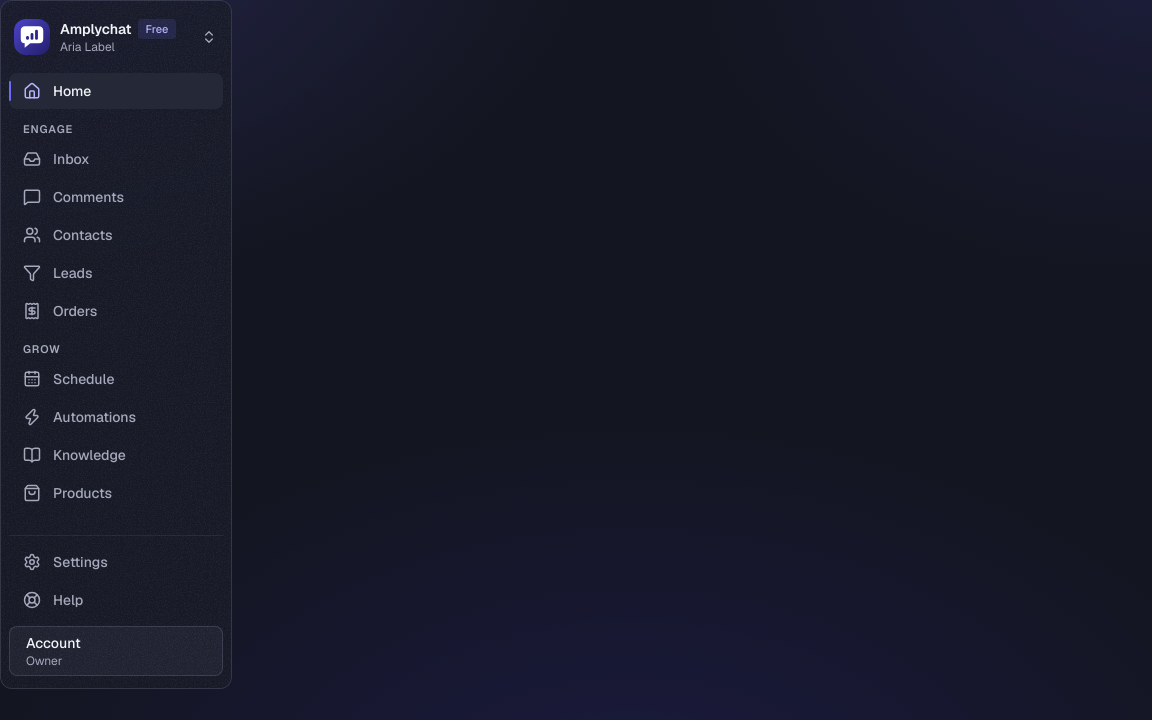
Test: workspace menu › lists just the current workspace until the list loads
Click the button with aria-label "Workspace menu: Aria Label".
click(116, 37)  # box [9,13,223,61]
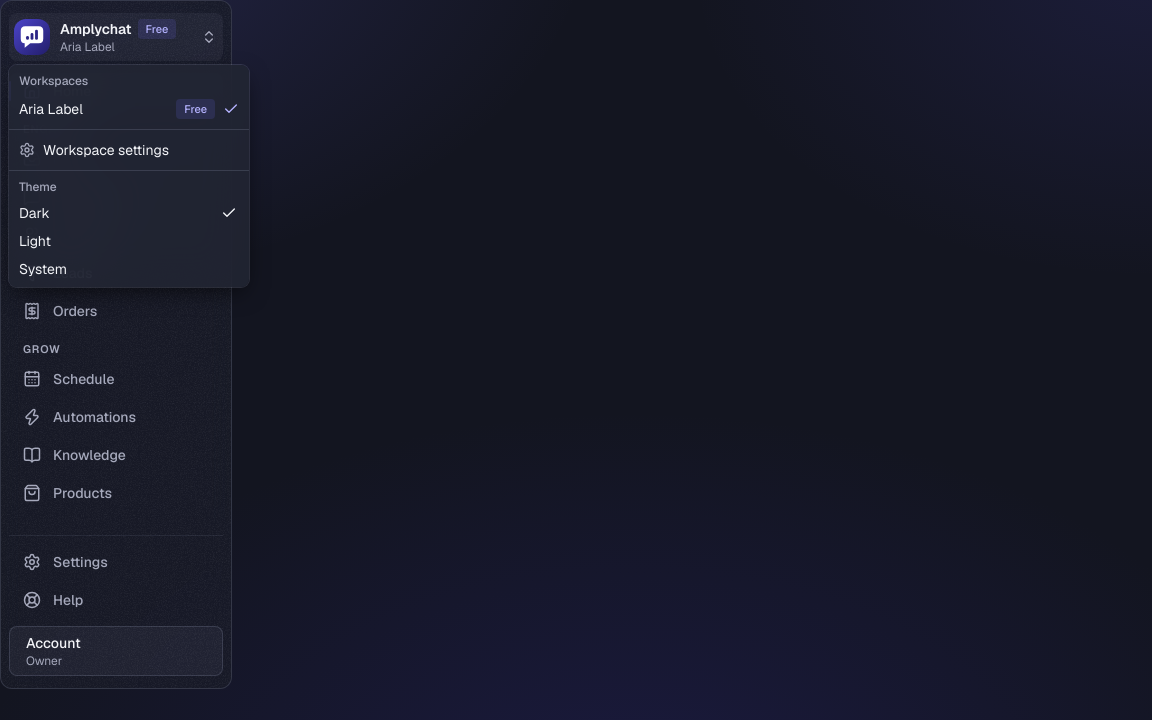
Now the menu items read "Aria LabelFree", "Workspace settings", in this order, box [13,93,245,125]; [19,141,169,159]
